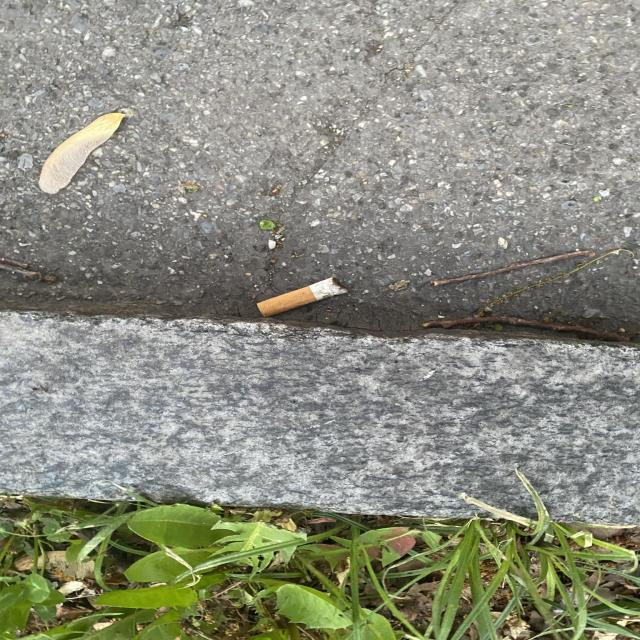other waste: (256, 276, 349, 318)
